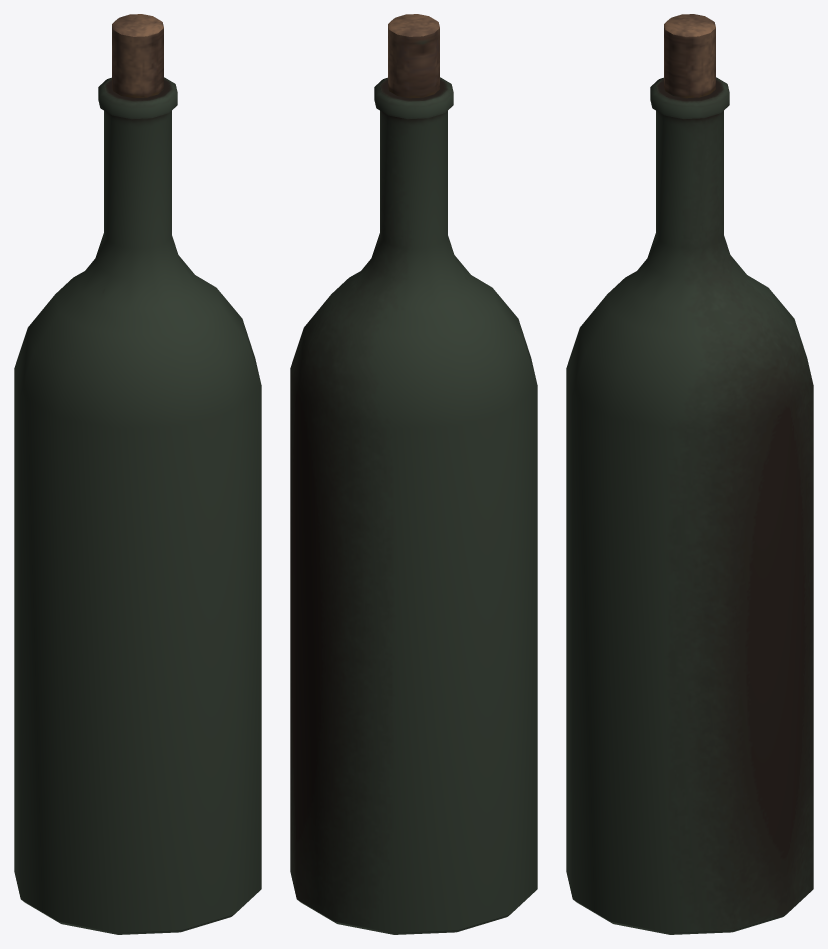
The model's file is wine_bottle_lowpoly.gltf.
3 renders of one model, left to right at view 1: azimuth 30°, elevation 25°; view 2: azimuth 150°, elevation 25°; view 3: azimuth 270°, elevation 25°, orthographic.
Parts seen in each view (by area): view 1: Whiskey; view 2: Whiskey; view 3: Whiskey.
Boxes of the visible parts, <box> form: Whiskey: <box>14,14,261,934</box>; Whiskey: <box>290,14,537,934</box>; Whiskey: <box>566,14,813,934</box>.
Size of the model in its own units: 0.1881 by 0.7227 by 0.1881.
1 material, 1 textured.
